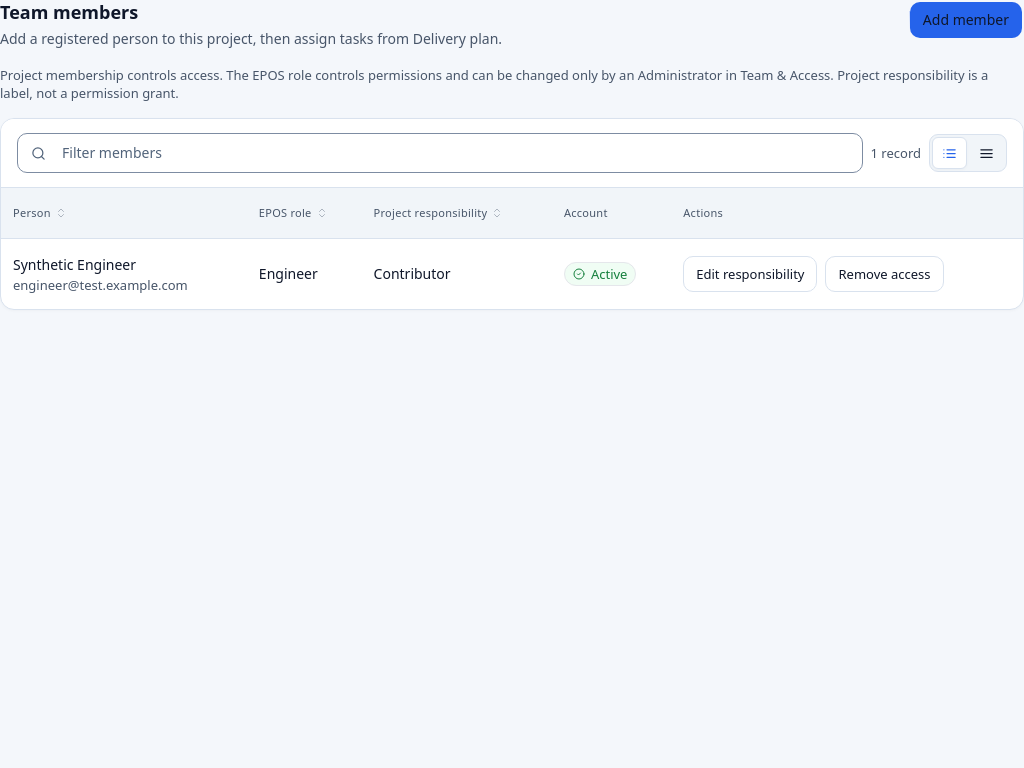
Test: Project members › shows a removal refusal without removing the member locally
This screenshot has width=1024, height=768.
Click the 3rd button named "Remove access": coordinates (885, 274) [826,256,944,292]
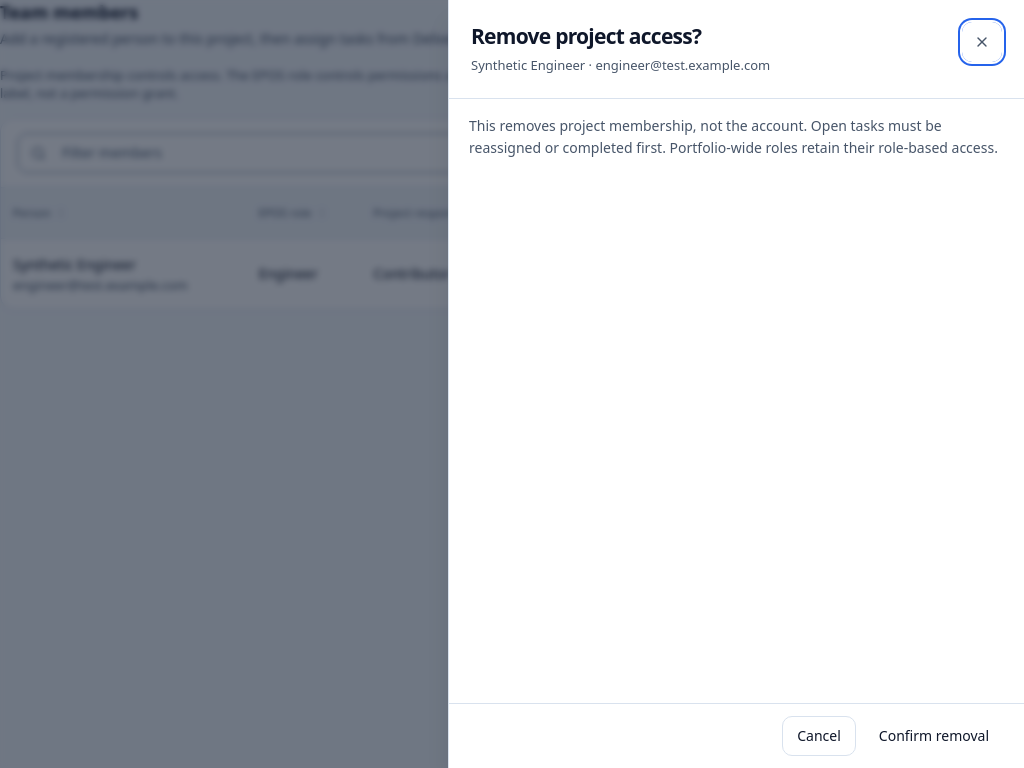
Click the 2nd button named "Confirm removal": coordinates (934, 736) [864,716,1004,756]
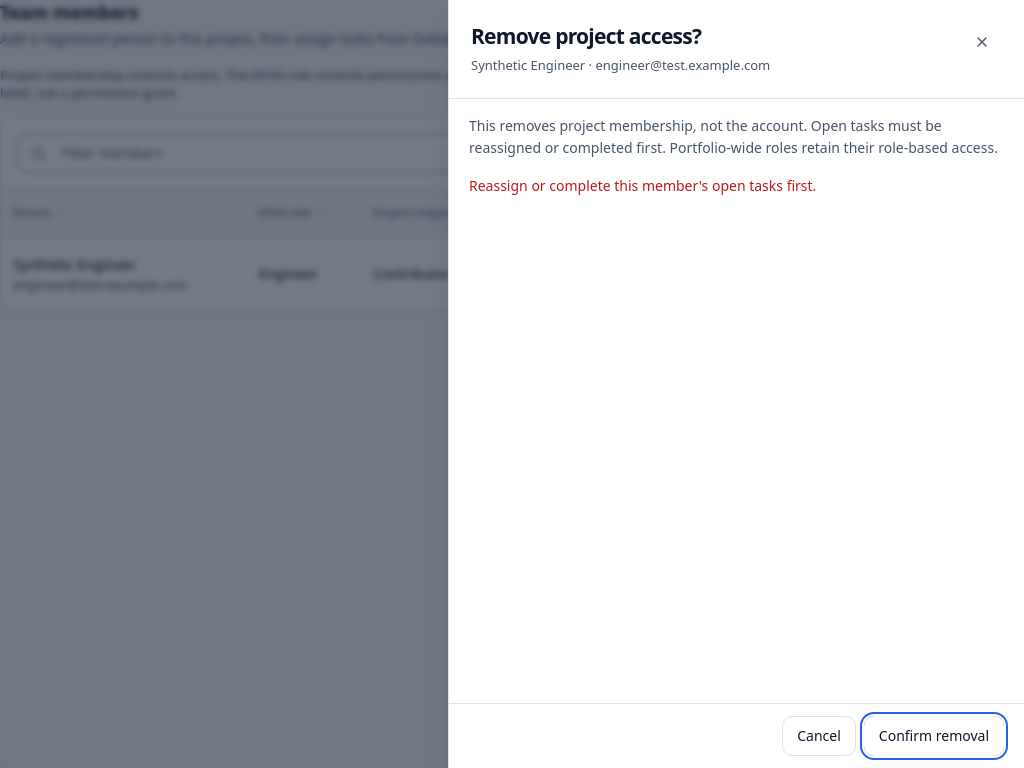
Now the 2nd button named "Confirm removal" is shown, box [864,716,1004,756]
Now the message shows "Reassign or complete", box [469,176,816,195]
